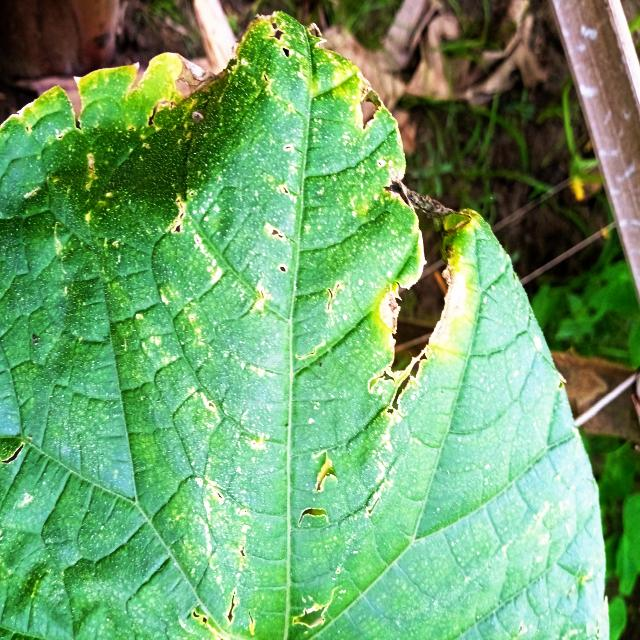Anthracnose: (364, 170, 455, 423)
